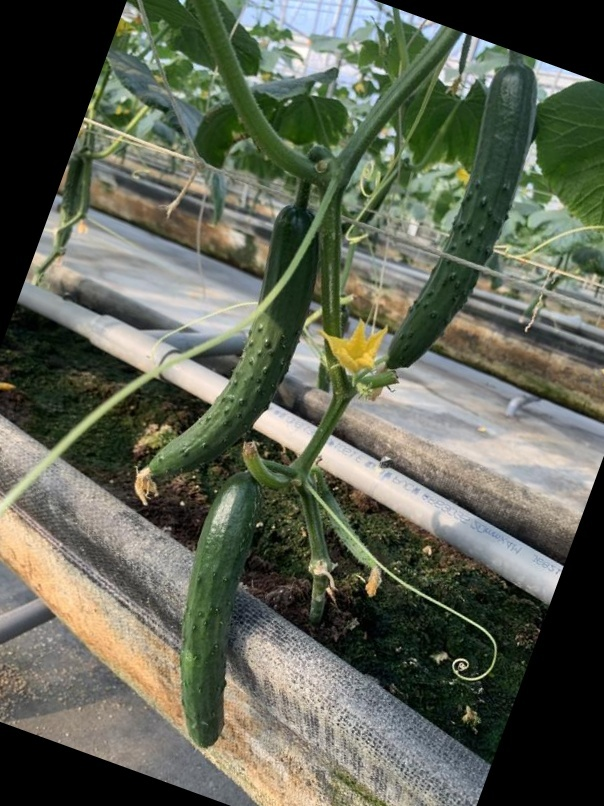mature: (389, 66, 544, 375), (147, 204, 322, 473), (175, 472, 264, 761)
